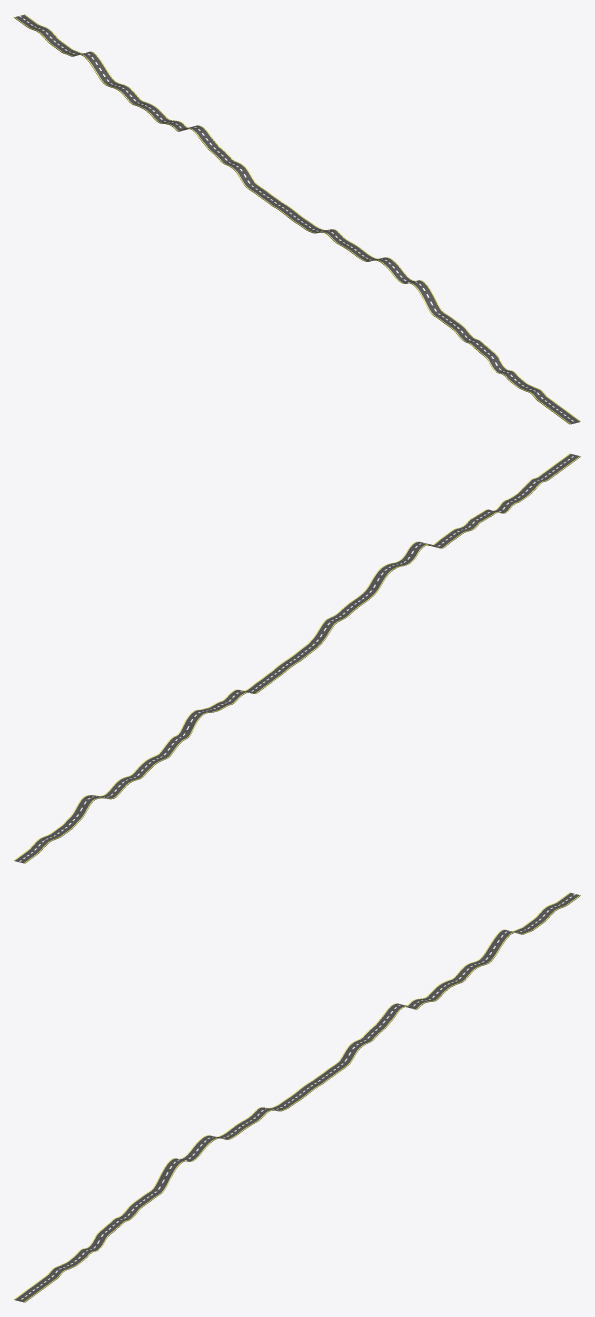
File: godtierplatform4.fbx
The picture shows the model from 3 angles, top to bottom: view 1: azimuth 30°, elevation 25°; view 2: azimuth 150°, elevation 25°; view 3: azimuth 330°, elevation 25°; orthographic projection.
Parts seen in each view (by area): view 1: Plane.001; view 2: Plane.001; view 3: Plane.001.
Part boxes in pixels (<box>): Plane.001: <box>14,14,580,424</box>; Plane.001: <box>14,453,580,863</box>; Plane.001: <box>14,892,580,1302</box>.
Bounding box in the file's own units: 577 × 1340 × 50000.
Materials: 1 (1 with a texture image).
